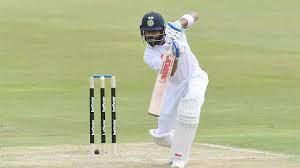bottom left: (145, 109, 154, 119)
bottom right: (157, 110, 164, 122)
top left: (159, 49, 168, 58)
top right: (171, 53, 178, 64)
